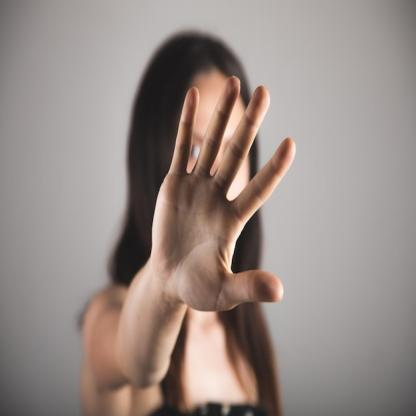stop: (146, 72, 299, 316)
